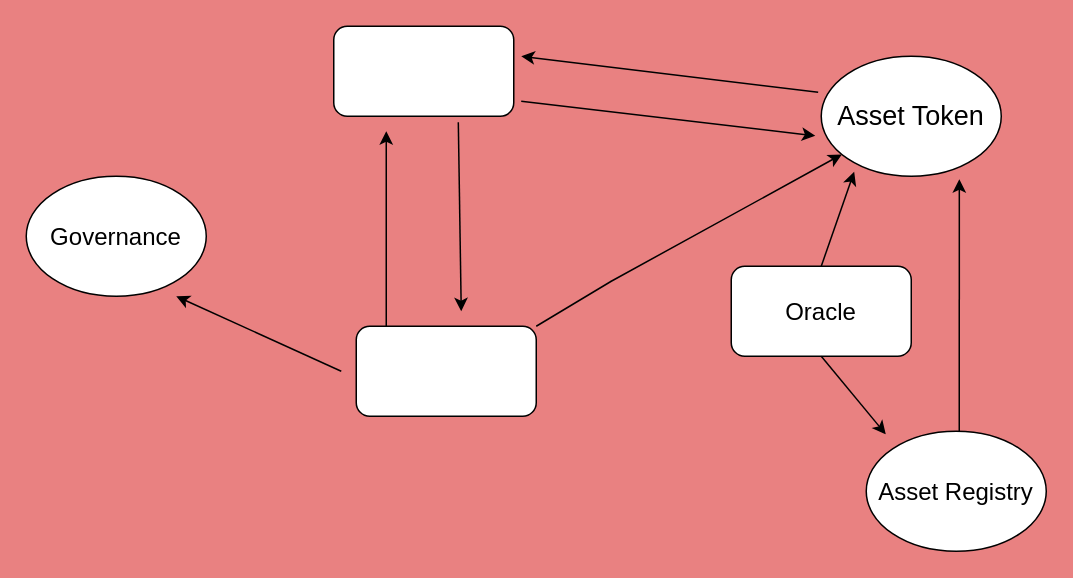
This 1073x578 diagram has some shape labels left out. The shapes that lost their labels are listed below. From the top down, each one's centre as x and y in pixels, then its label:
(423,70): Marketplace
(445,370): Fractional Ownership
